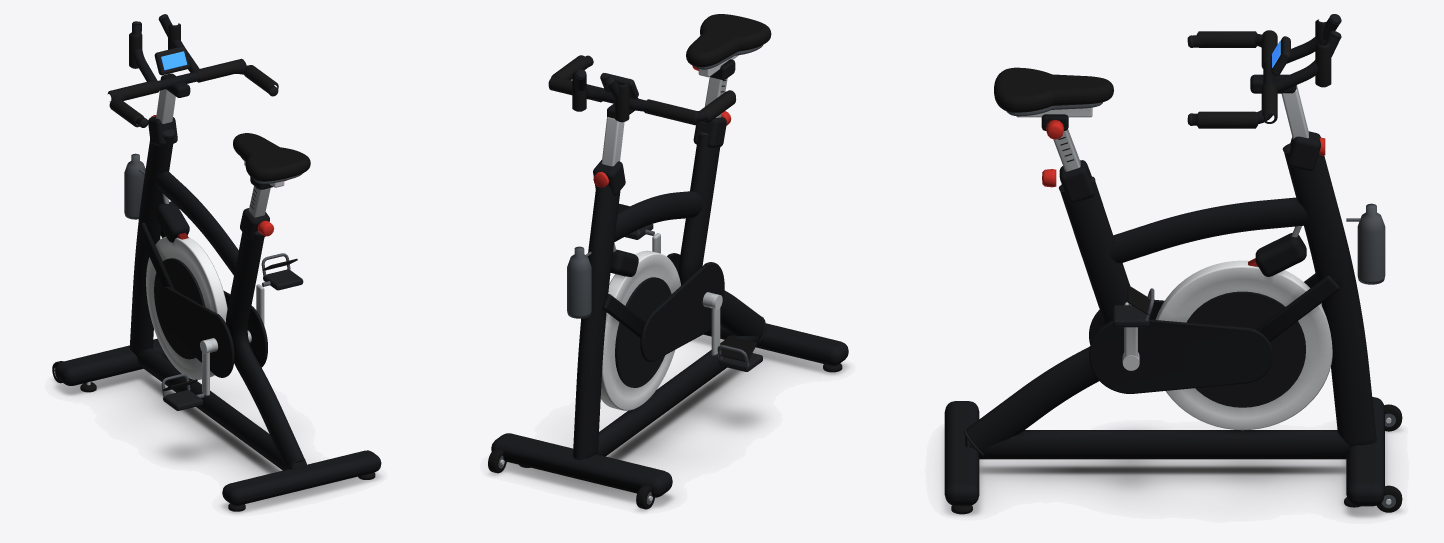
File: bicicleta-spinning.glb
3 views of the same model, side by side, from view 1: azimuth 30°, elevation 25°; view 2: azimuth 150°, elevation 25°; view 3: azimuth 270°, elevation 25° (orthographic). The views are drawn at different scales.
Parts seen in each view (by area): view 1: Sombra_Contacto, Arco_Traseiro, Tubo_Frontal, Estabilizador_Tras, Disco_Cromado, Carter, Viga_Base, Selim, Tubo_Superior, Estabilizador_Frente, Tampa_Volante, Garrafa (+13 smaller); view 2: Sombra_Contacto, Tubo_Frontal, Estabilizador_Frente, Carter, Arco_Traseiro, Disco_Cromado, Viga_Base, Tampa_Volante, Selim, Estabilizador_Tras, Tubo_Superior, Garrafa (+8 smaller); view 3: Carter_1, Sombra_Contacto, Viga_Base, Tubo_Frontal, Disco_Cromado, Arco_Traseiro, Tampa_Volante_1, Tubo_Superior, Selim, Estabilizador_Tras, Estabilizador_Frente, Garrafa (+12 smaller).
Boxes of the visible parts, x1,y1,x2,y2 form: Sombra_Contacto: (54, 369, 380, 513); Arco_Traseiro: (225, 232, 303, 468); Tubo_Frontal: (129, 135, 174, 356); Estabilizador_Tras: (222, 450, 381, 505); Disco_Cromado: (146, 236, 227, 379); Carter: (157, 286, 234, 377); Viga_Base: (137, 348, 291, 470); Selim: (233, 133, 310, 181); Tubo_Superior: (154, 171, 238, 275); Estabilizador_Frente: (55, 338, 169, 385); Tampa_Volante: (154, 258, 205, 359); Garrafa: (124, 153, 145, 219); Sombra_Contacto: (490, 335, 847, 511); Tubo_Frontal: (573, 184, 620, 459); Estabilizador_Frente: (491, 433, 672, 497); Carter: (640, 262, 724, 361); Arco_Traseiro: (678, 135, 764, 338); Disco_Cromado: (600, 250, 680, 410); Viga_Base: (597, 328, 766, 456); Tampa_Volante: (615, 277, 671, 387); Selim: (686, 14, 771, 67); Estabilizador_Tras: (703, 323, 848, 365); Tubo_Superior: (614, 191, 703, 242); Garrafa: (567, 246, 591, 318); Carter_1: (1089, 319, 1273, 393); Sombra_Contacto: (943, 428, 1400, 517); Viga_Base: (969, 430, 1349, 459); Tubo_Frontal: (1284, 152, 1376, 447); Disco_Cromado: (1155, 260, 1332, 430); Arco_Traseiro: (966, 181, 1130, 452); Tampa_Volante_1: (1186, 291, 1305, 407); Tubo_Superior: (1109, 197, 1307, 263); Selim: (994, 67, 1113, 112); Estabilizador_Tras: (944, 401, 979, 505); Estabilizador_Frente: (1346, 397, 1384, 506); Garrafa: (1357, 203, 1385, 284).
Bounding box in the file's own units: 0.7228 × 1.29 × 1.33.
Materials: 12 (1 with a texture image).
